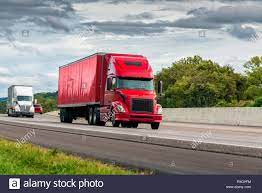truck: (56, 52, 161, 129), (5, 84, 35, 118)
